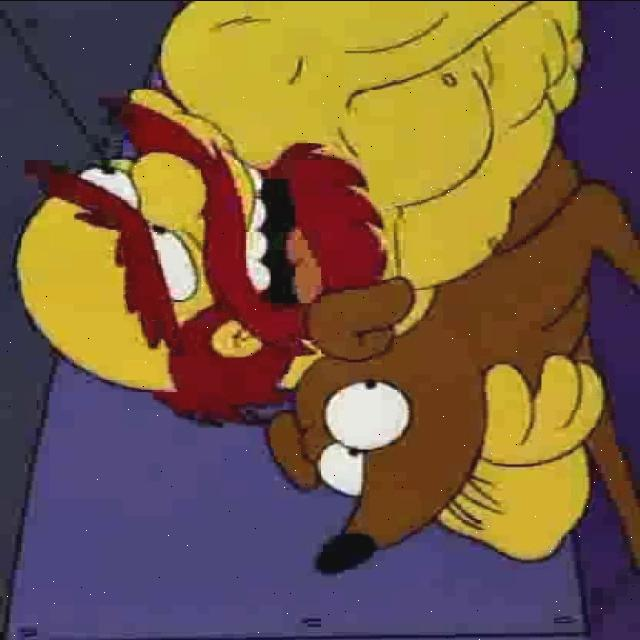Groundskeeper Willie: (9, 82, 391, 430)
